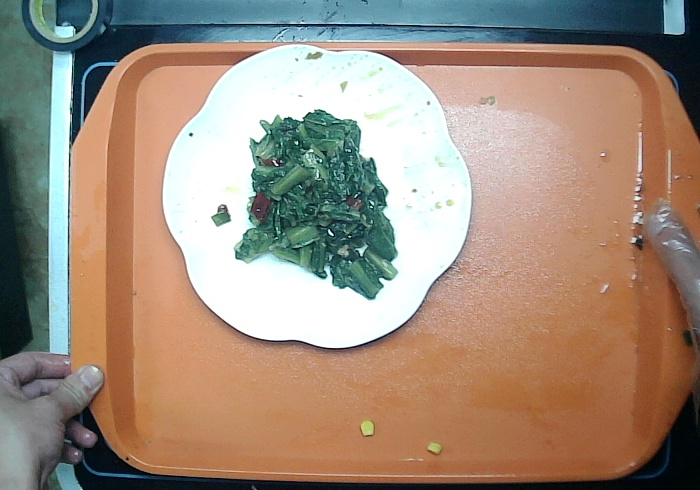HZYJPL-Bai_Se_Hua_Duo_Wan: (162, 43, 476, 351)
